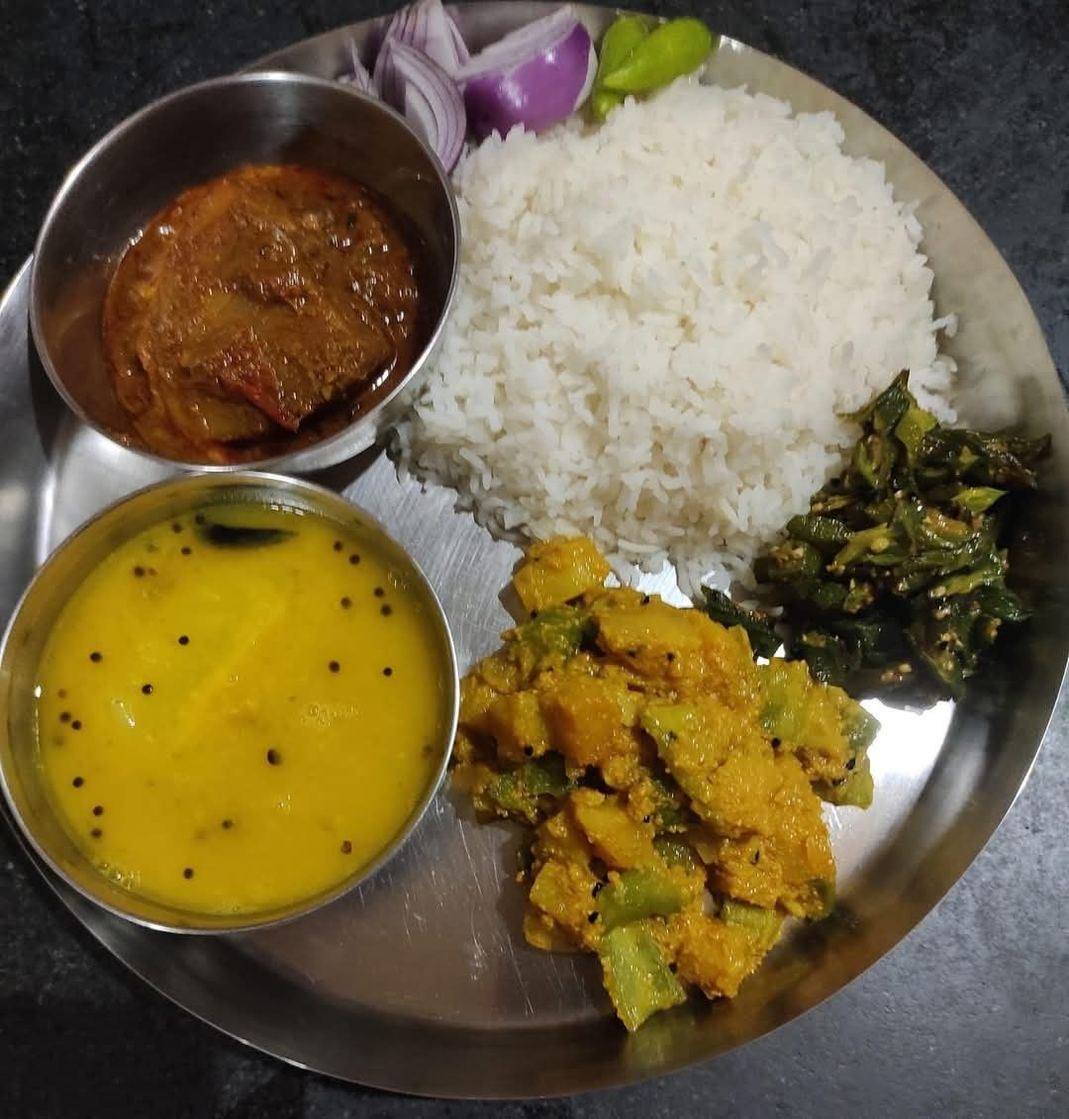Bhat: (406, 89, 943, 557)
Dal: (46, 512, 431, 902)
Sabji: (461, 587, 874, 1012), (87, 167, 409, 420), (748, 391, 1025, 676)
